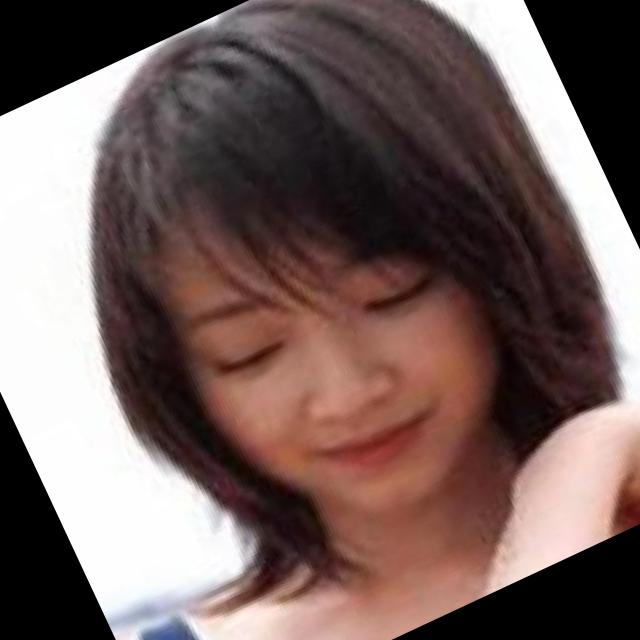bareface: (76, 0, 605, 551)
